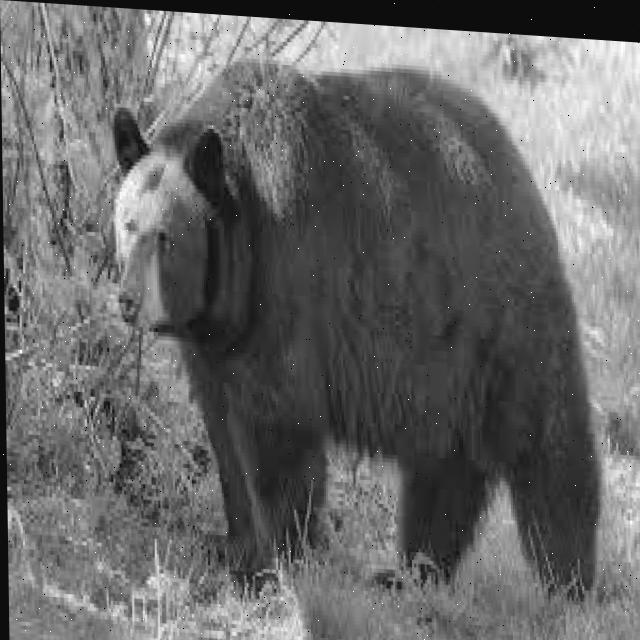Bear: (87, 69, 619, 581)
